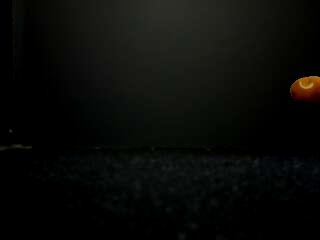Potato: (290, 75, 320, 112)
